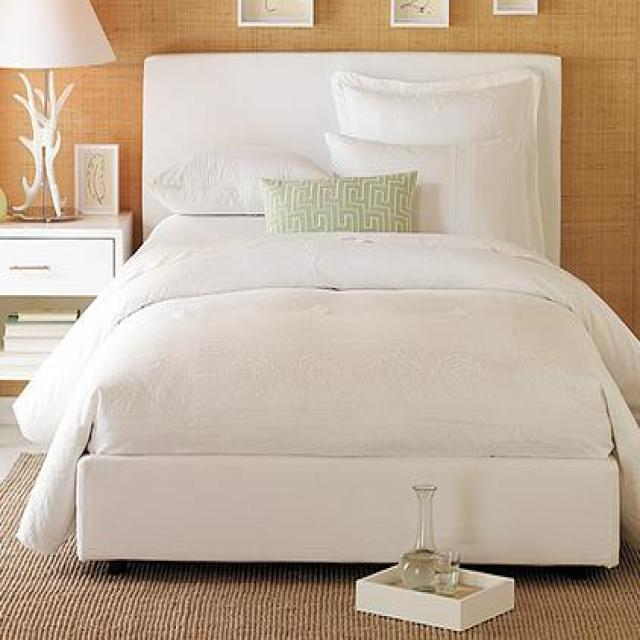bed: (13, 52, 640, 584)
